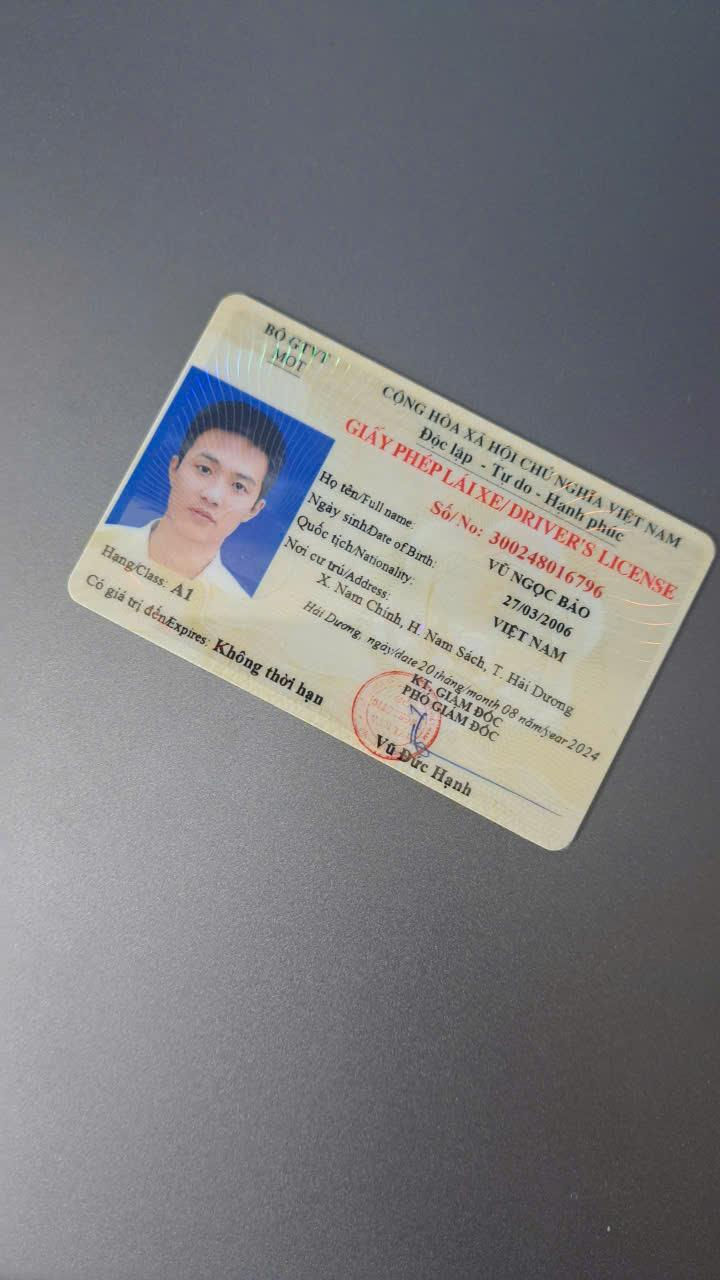gplx: (52, 289, 715, 860)
